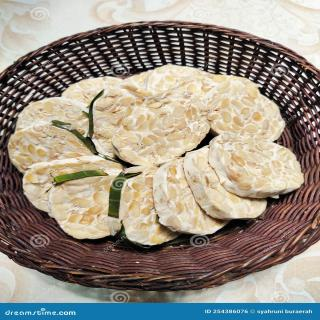Tempe: (8, 65, 306, 248), (89, 85, 212, 167), (23, 156, 128, 241), (8, 97, 98, 175), (209, 133, 306, 200), (184, 145, 269, 221), (153, 157, 232, 237), (119, 166, 182, 248)
